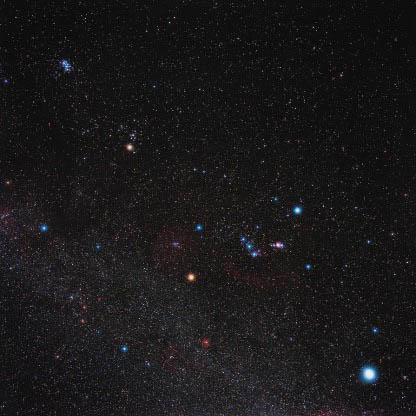Orion: (288, 201, 306, 218), (184, 268, 199, 286), (299, 260, 314, 275), (190, 218, 203, 234), (234, 231, 250, 241), (247, 254, 263, 264), (243, 241, 256, 252)
